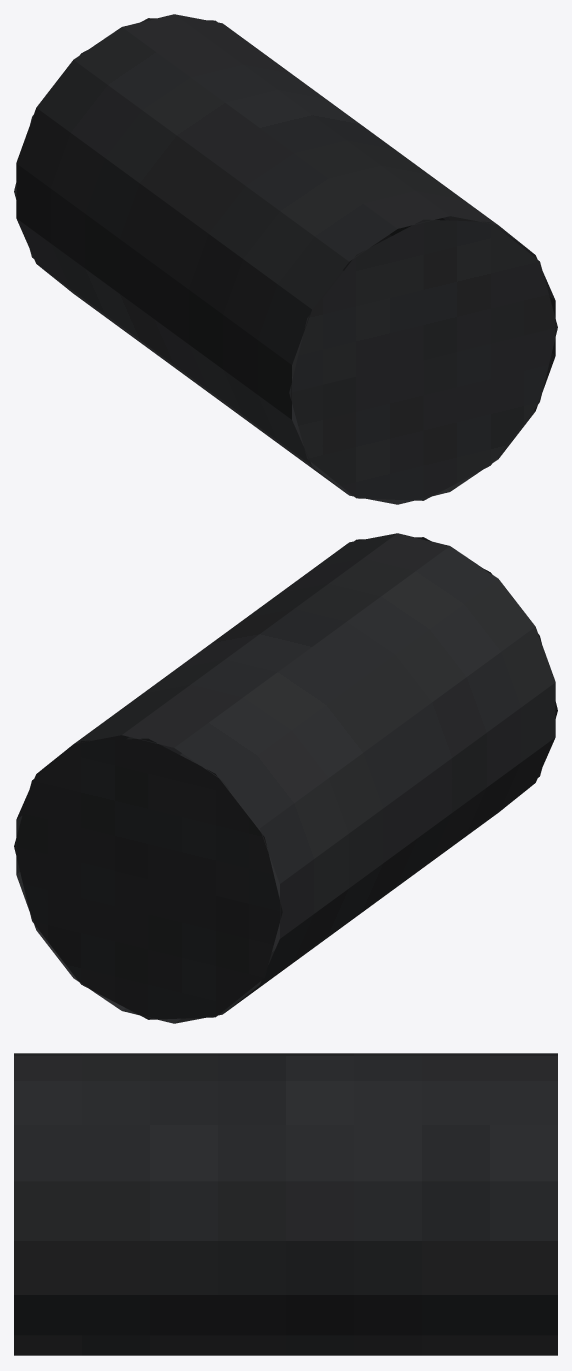
File: decopole_laconcrete_shaft.obj
3 renders of one model, top to bottom at view 1: azimuth 30°, elevation 25°; view 2: azimuth 150°, elevation 25°; view 3: azimuth 270°, elevation 25°, orthographic.
Visible parts, largest first — view 1: decopole_laconcrete_shaft; view 2: decopole_laconcrete_shaft; view 3: decopole_laconcrete_shaft.
Part boxes in pixels (bbox=[...]): decopole_laconcrete_shaft: bbox=[14, 14, 557, 504]; decopole_laconcrete_shaft: bbox=[14, 533, 557, 1023]; decopole_laconcrete_shaft: bbox=[14, 1053, 557, 1355].
Bounding box in the file's own units: 0.5625 × 0.5625 × 1.
